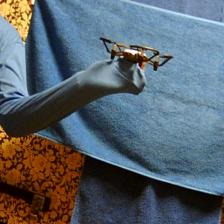drone: (98, 32, 172, 74)
